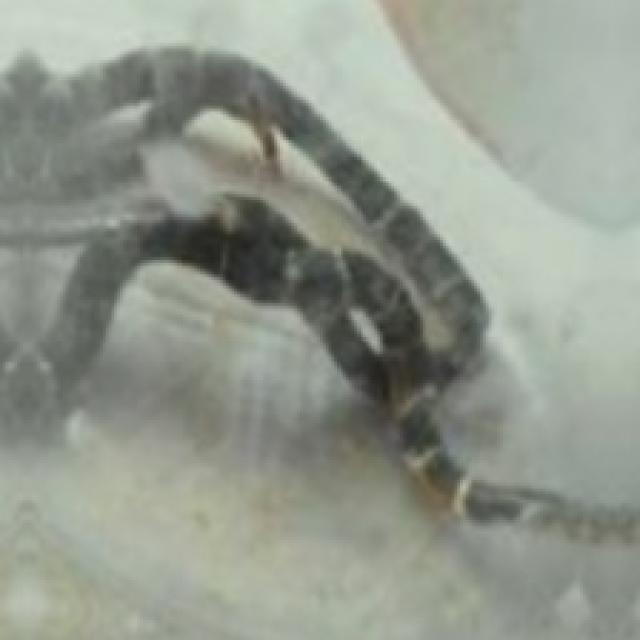barredcoral snake: (0, 49, 637, 543)
